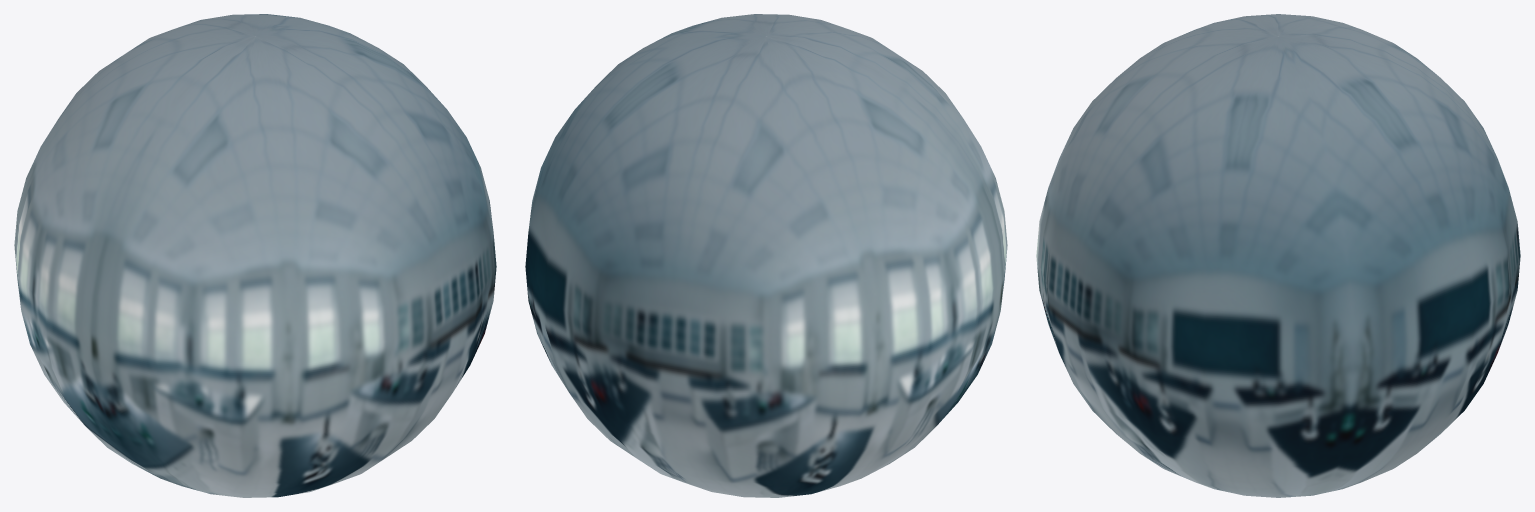
3 views of the same model, side by side, from view 1: azimuth 30°, elevation 25°; view 2: azimuth 150°, elevation 25°; view 3: azimuth 270°, elevation 25° (orthographic).
Parts seen in each view (by area): view 1: pSphere1; view 2: pSphere1; view 3: pSphere1.
Boxes of the visible parts, <box> form: pSphere1: <box>14,14,496,497</box>; pSphere1: <box>525,14,1007,497</box>; pSphere1: <box>1036,14,1520,497</box>.
Bounding box in the file's own units: 22.15 × 22.15 × 22.15.
Materials: 2 (2 with a texture image).
